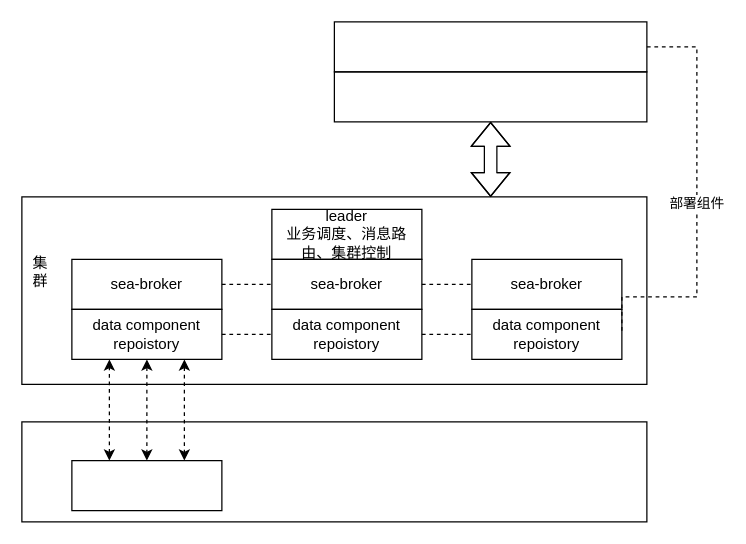
Some shapes in this 746 by 544 pixel diagram are drawn without their labels. Here are the shapes that lost their labels. From the top down, the centre of each, then its label:
At point 490,46: "choreography 业务编排".
At point 490,96: "sea-console 监察、管理".
At point 146,485: "调用数据组件执行".
